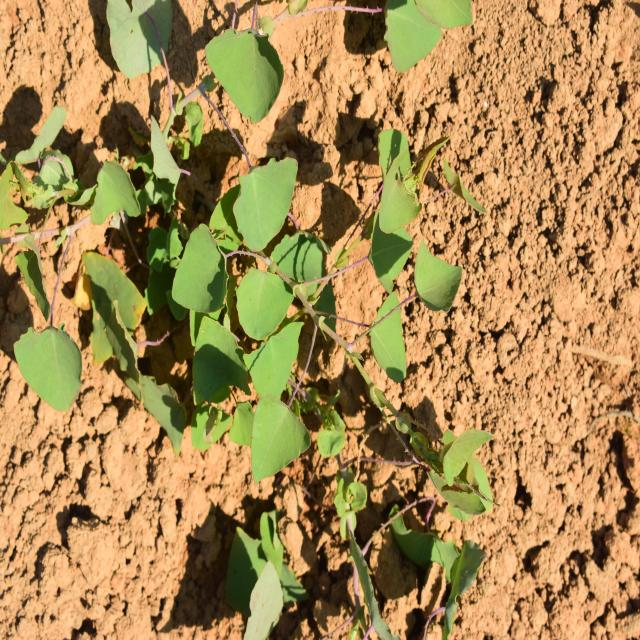Asiatic_Smartweed: (170, 144, 325, 471), (333, 130, 460, 400), (204, 16, 290, 122), (8, 324, 98, 424)
